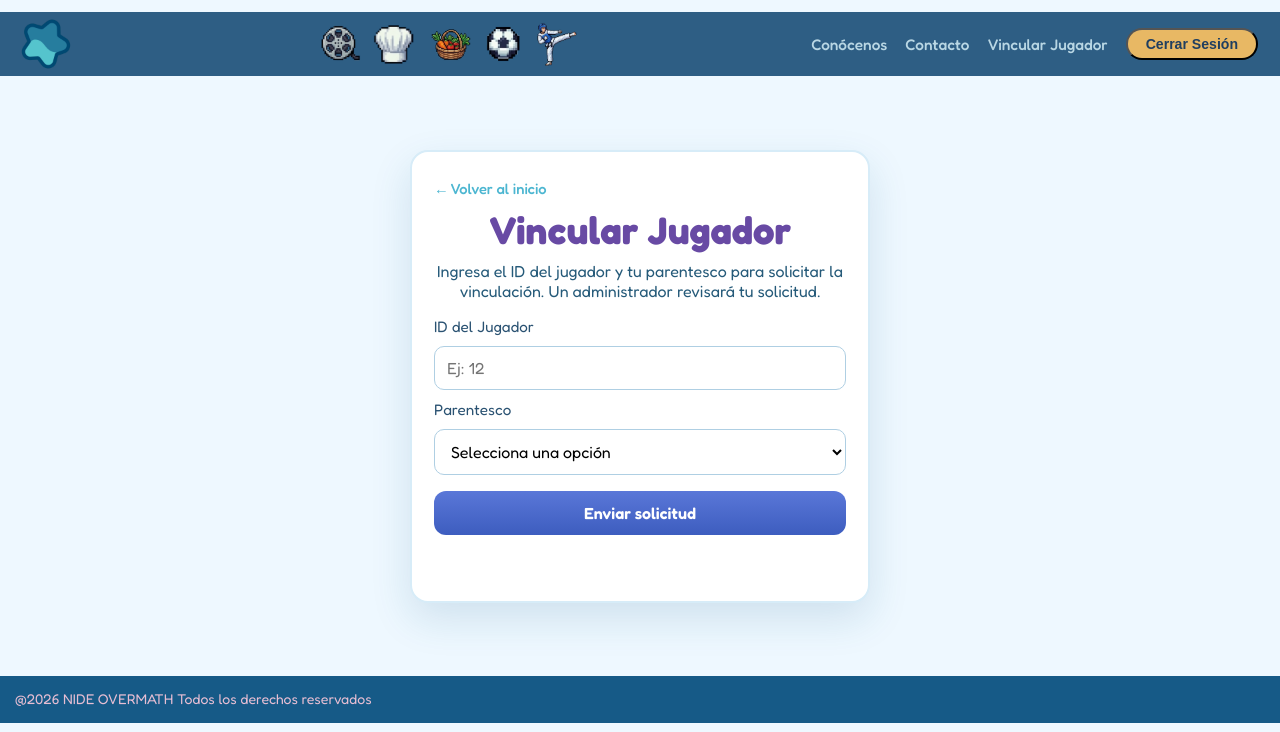
it: SolicitudVinculacionPage › muestra error si se envía con campos vacíos
Click the button "Enviar solicitud": (640,512) [434, 490, 846, 534]
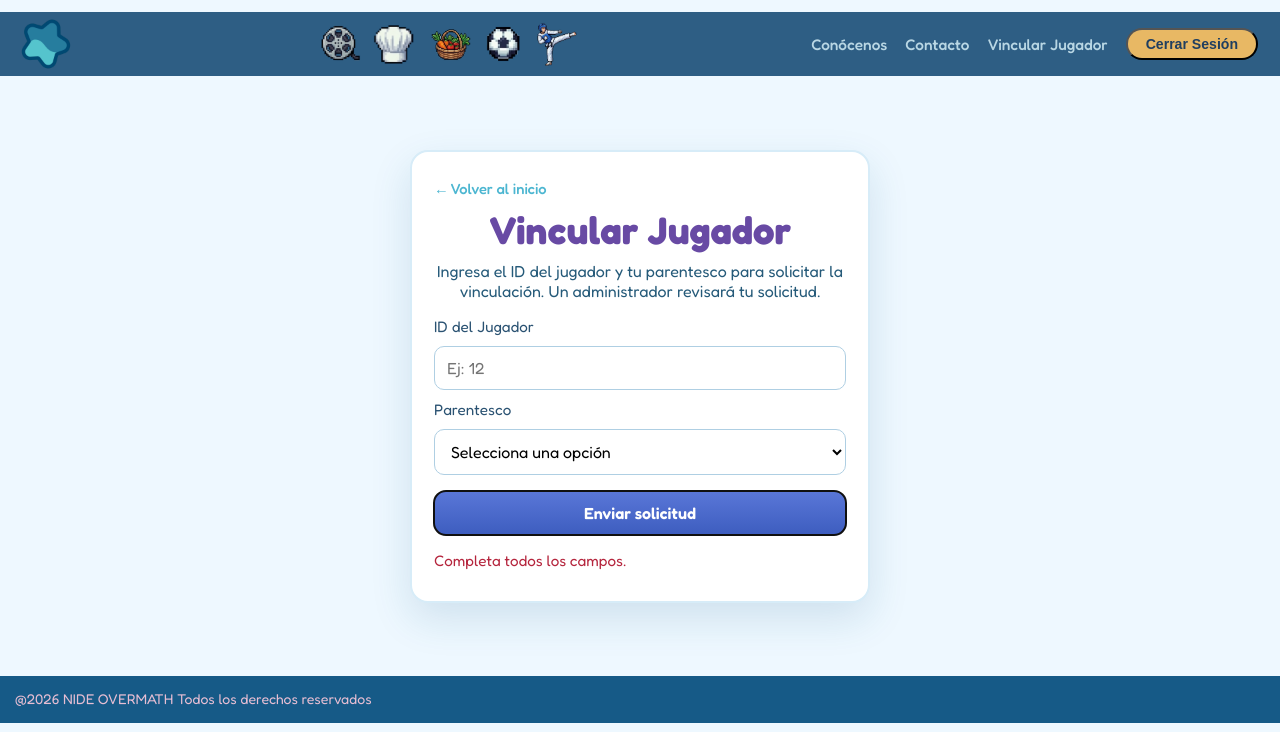
Result: the message reads "Completa todos los campos." at [434, 550, 626, 570]
